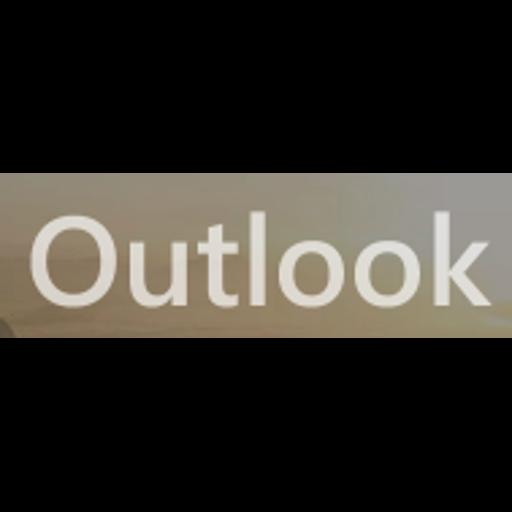Outlook: (0, 173, 512, 338)
